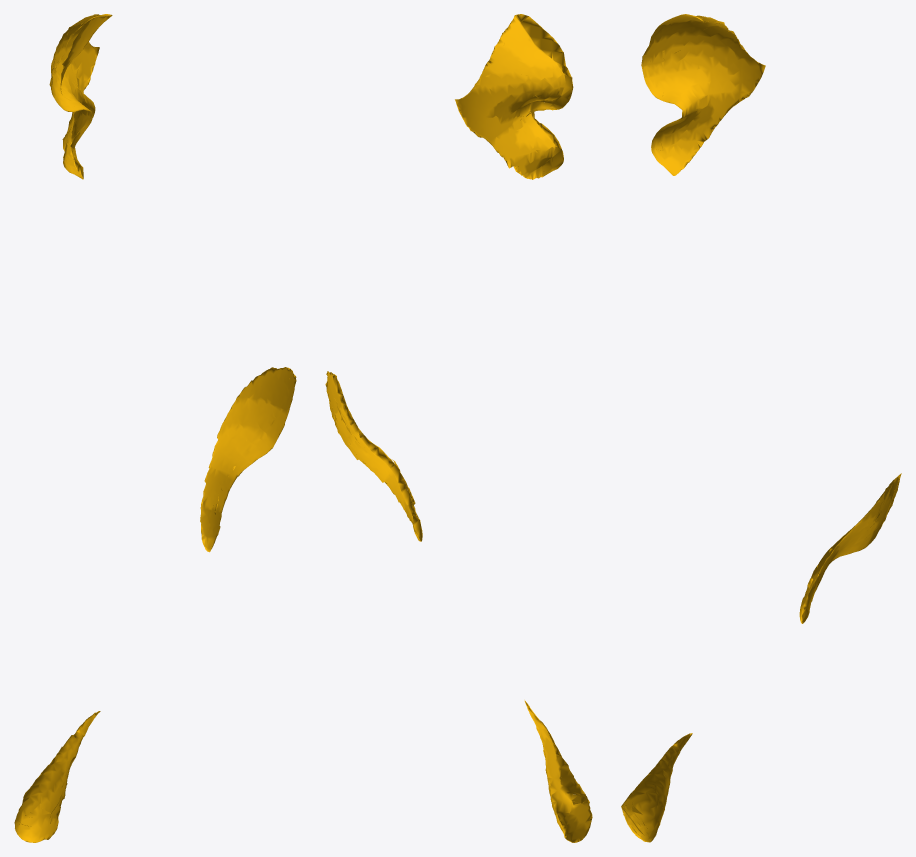
The picture shows the model from 3 angles, left to right: view 1: azimuth 30°, elevation 25°; view 2: azimuth 150°, elevation 25°; view 3: azimuth 330°, elevation 25°; orthographic projection. The views are drawn at different scales.
Visible parts, largest first — view 1: Switch_Switch_osgPicked_gmeGeoEntityGeode_Geometry_Geometry_ (×2), Switch_Switch_osgPicked_gmeGeoEntityGeode_Geometry_0; view 2: Switch_Switch_osgPicked_gmeGeoEntityGeode_Geometry_Geometry_ (×2), Switch_Switch_osgPicked_gmeGeoEntityGeode_Geometry_0; view 3: Switch_Switch_osgPicked_gmeGeoEntityGeode_Geometry_Geometry_ (×2), Switch_Switch_osgPicked_gmeGeoEntityGeode_Geometry_0.
Part boxes in pixels (box(x1,y1,x2,y2)): Switch_Switch_osgPicked_gmeGeoEntityGeode_Geometry_Geometry_ (×2): box(49, 14, 296, 552); Switch_Switch_osgPicked_gmeGeoEntityGeode_Geometry_0: box(14, 711, 100, 842); Switch_Switch_osgPicked_gmeGeoEntityGeode_Geometry_Geometry_ (×2): box(325, 14, 573, 541); Switch_Switch_osgPicked_gmeGeoEntityGeode_Geometry_0: box(524, 700, 592, 842); Switch_Switch_osgPicked_gmeGeoEntityGeode_Geometry_Geometry_ (×2): box(641, 14, 901, 623); Switch_Switch_osgPicked_gmeGeoEntityGeode_Geometry_0: box(621, 733, 692, 842).
Size of what is drawn, in the model's own units: 13168 by 37810 by 3243.
